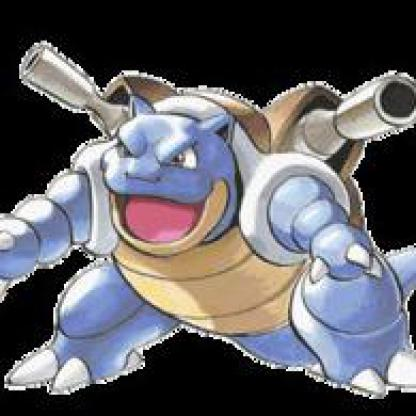Blastoise: (1, 1, 415, 415)
